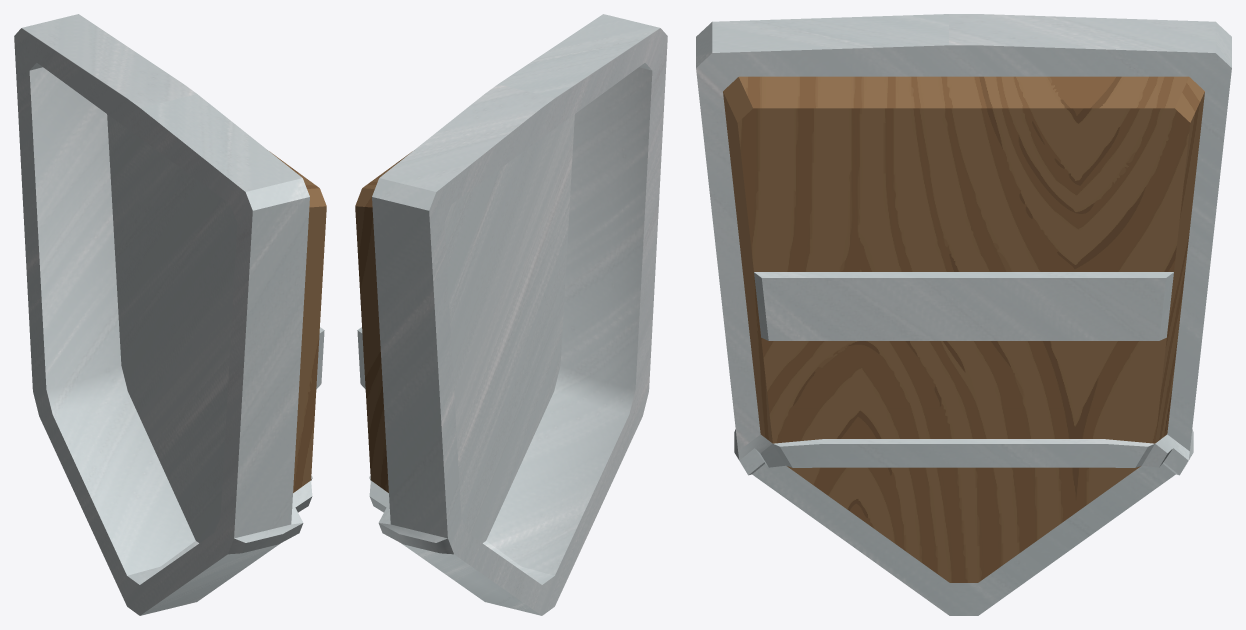
The model's file is ShieldA.fbx.
The picture shows the model from 3 angles, left to right: view 1: azimuth 30°, elevation 25°; view 2: azimuth 150°, elevation 25°; view 3: azimuth 270°, elevation 25°; orthographic projection. The views are drawn at different scales.
Visible parts, largest first — view 1: Shield A; view 2: Shield A; view 3: Shield A.
Boxes of the visible parts, x1,y1,x2,y2 form: Shield A: (14,14,326,615); Shield A: (355,14,667,615); Shield A: (696,14,1231,615).
Size of the model in its own units: 0.1804 by 0.8673 by 0.7383.
